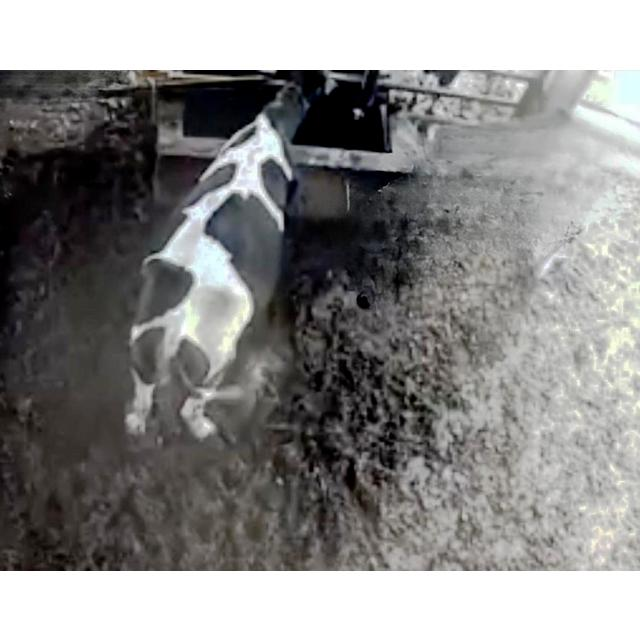drink: (218, 69, 362, 195)
